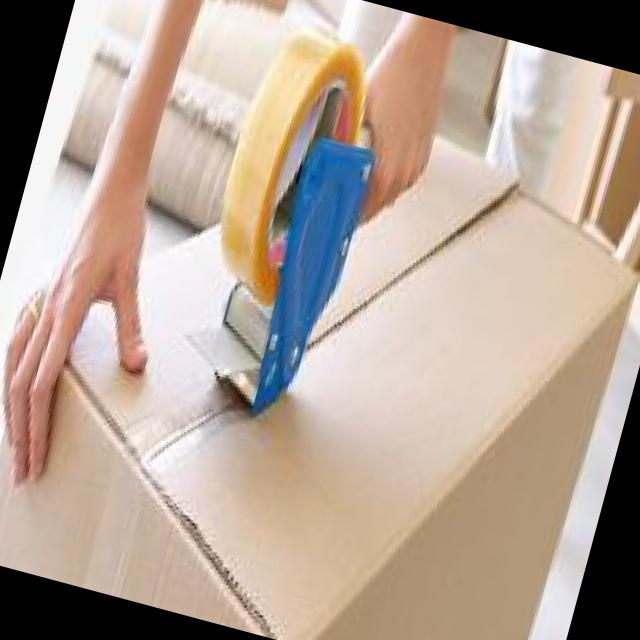box: (0, 112, 640, 640)
